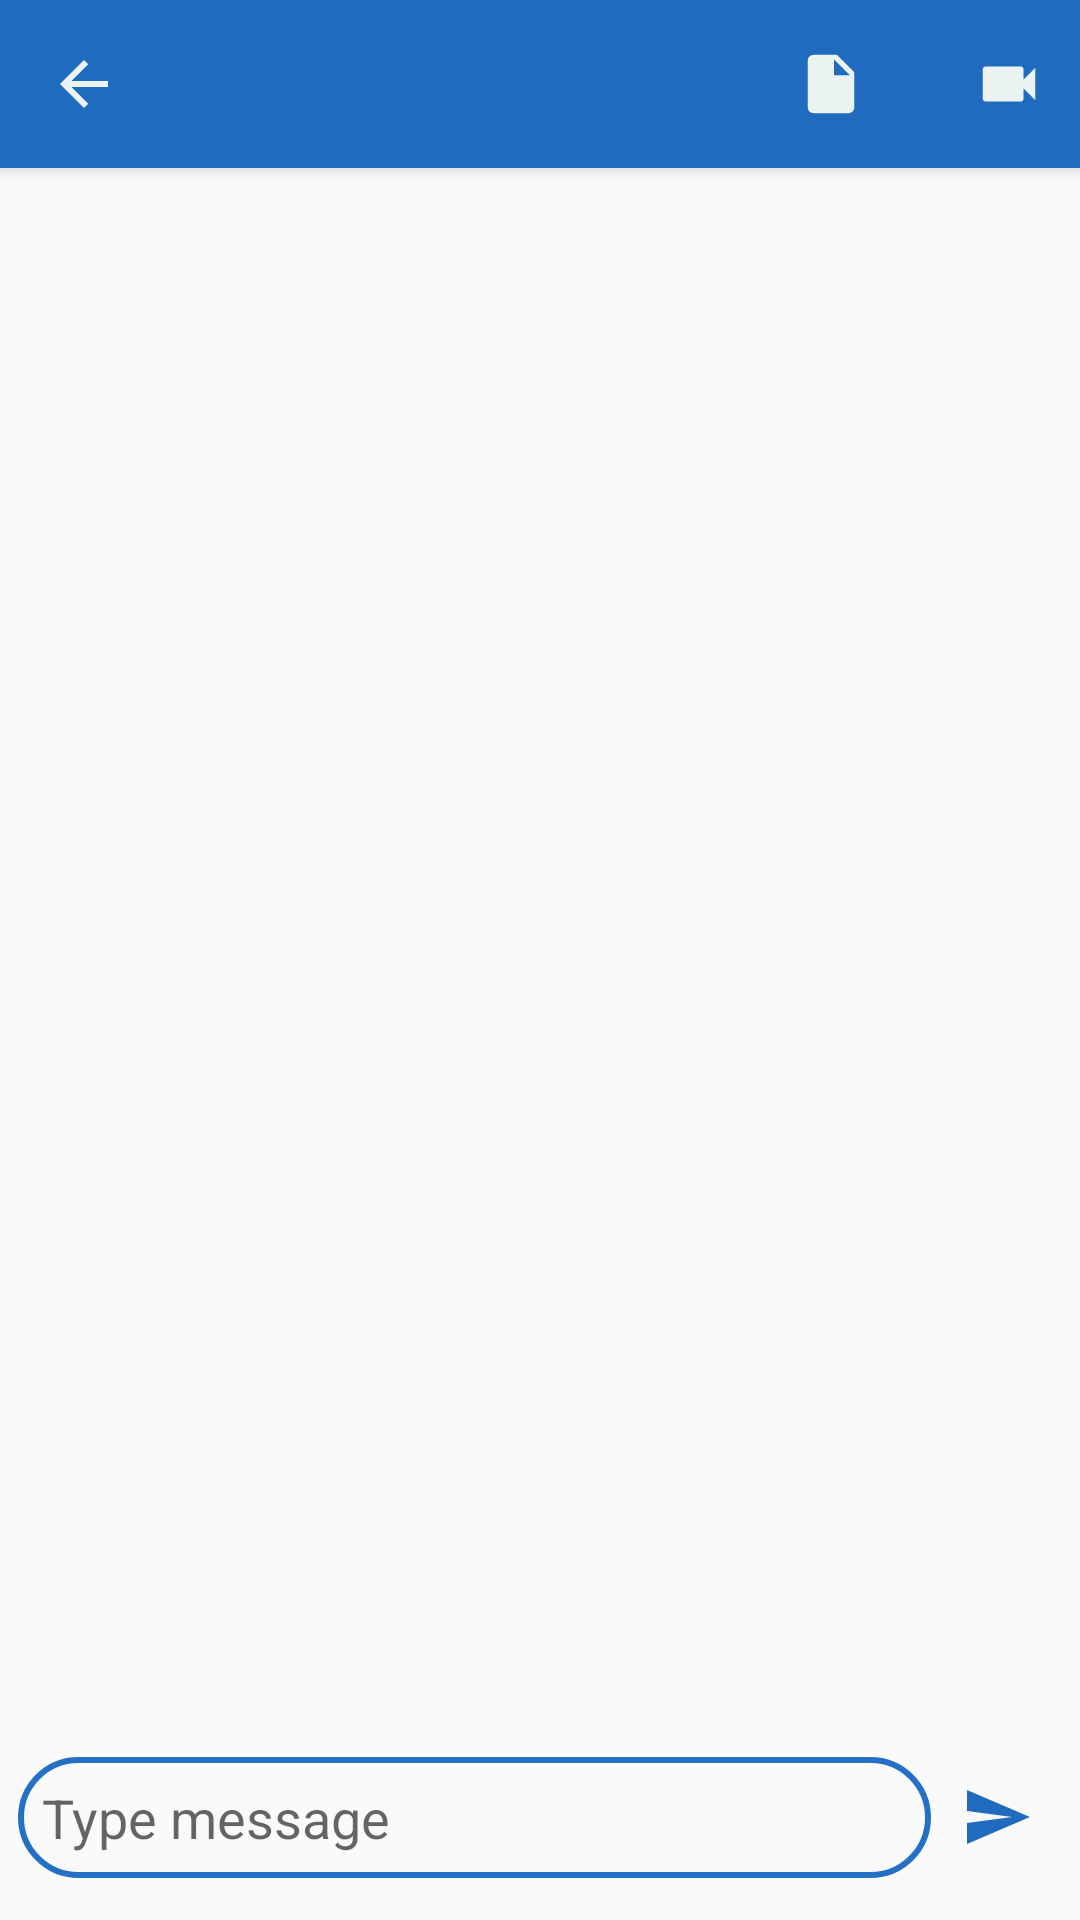

Named icons in this screenshot (1080w x 1920h) and their centers, (x,y):
arrow: (84,84)
insert drive file: (831,84)
send: (998,1817)
videocam: (1009,84)
